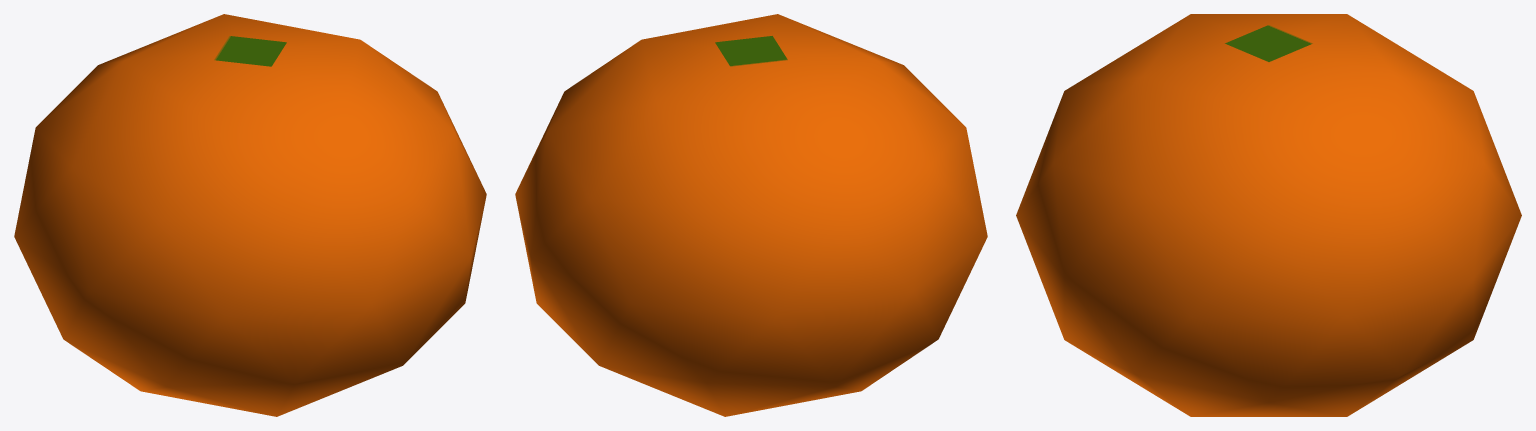
The model's file is mikan.glb.
3 views of the same model, side by side, from view 1: azimuth 30°, elevation 25°; view 2: azimuth 150°, elevation 25°; view 3: azimuth 270°, elevation 25° (orthographic). The views are drawn at different scales.
Parts seen in each view (by area): view 1: Icosphere; view 2: Icosphere; view 3: Icosphere.
Boxes of the visible parts, bbox=[...] form: Icosphere: bbox=[14, 14, 486, 416]; Icosphere: bbox=[515, 14, 987, 416]; Icosphere: bbox=[1016, 14, 1521, 416].
Bounding box in the file's own units: 0.0761 × 0.0572 × 0.08.
Materials: 1 (1 with a texture image).
